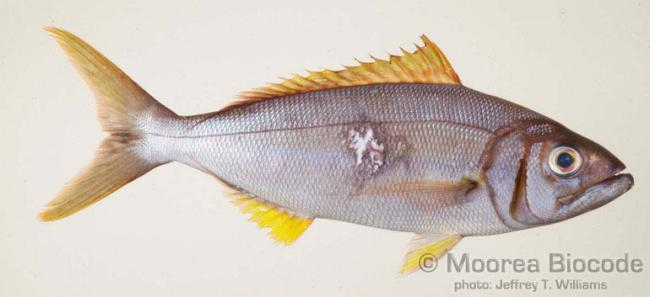fish: (43, 26, 631, 273)
